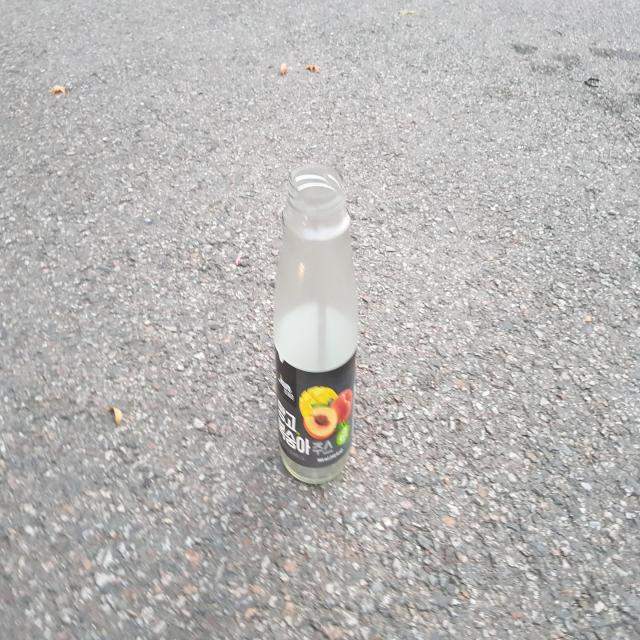glass: (274, 164, 358, 484)
